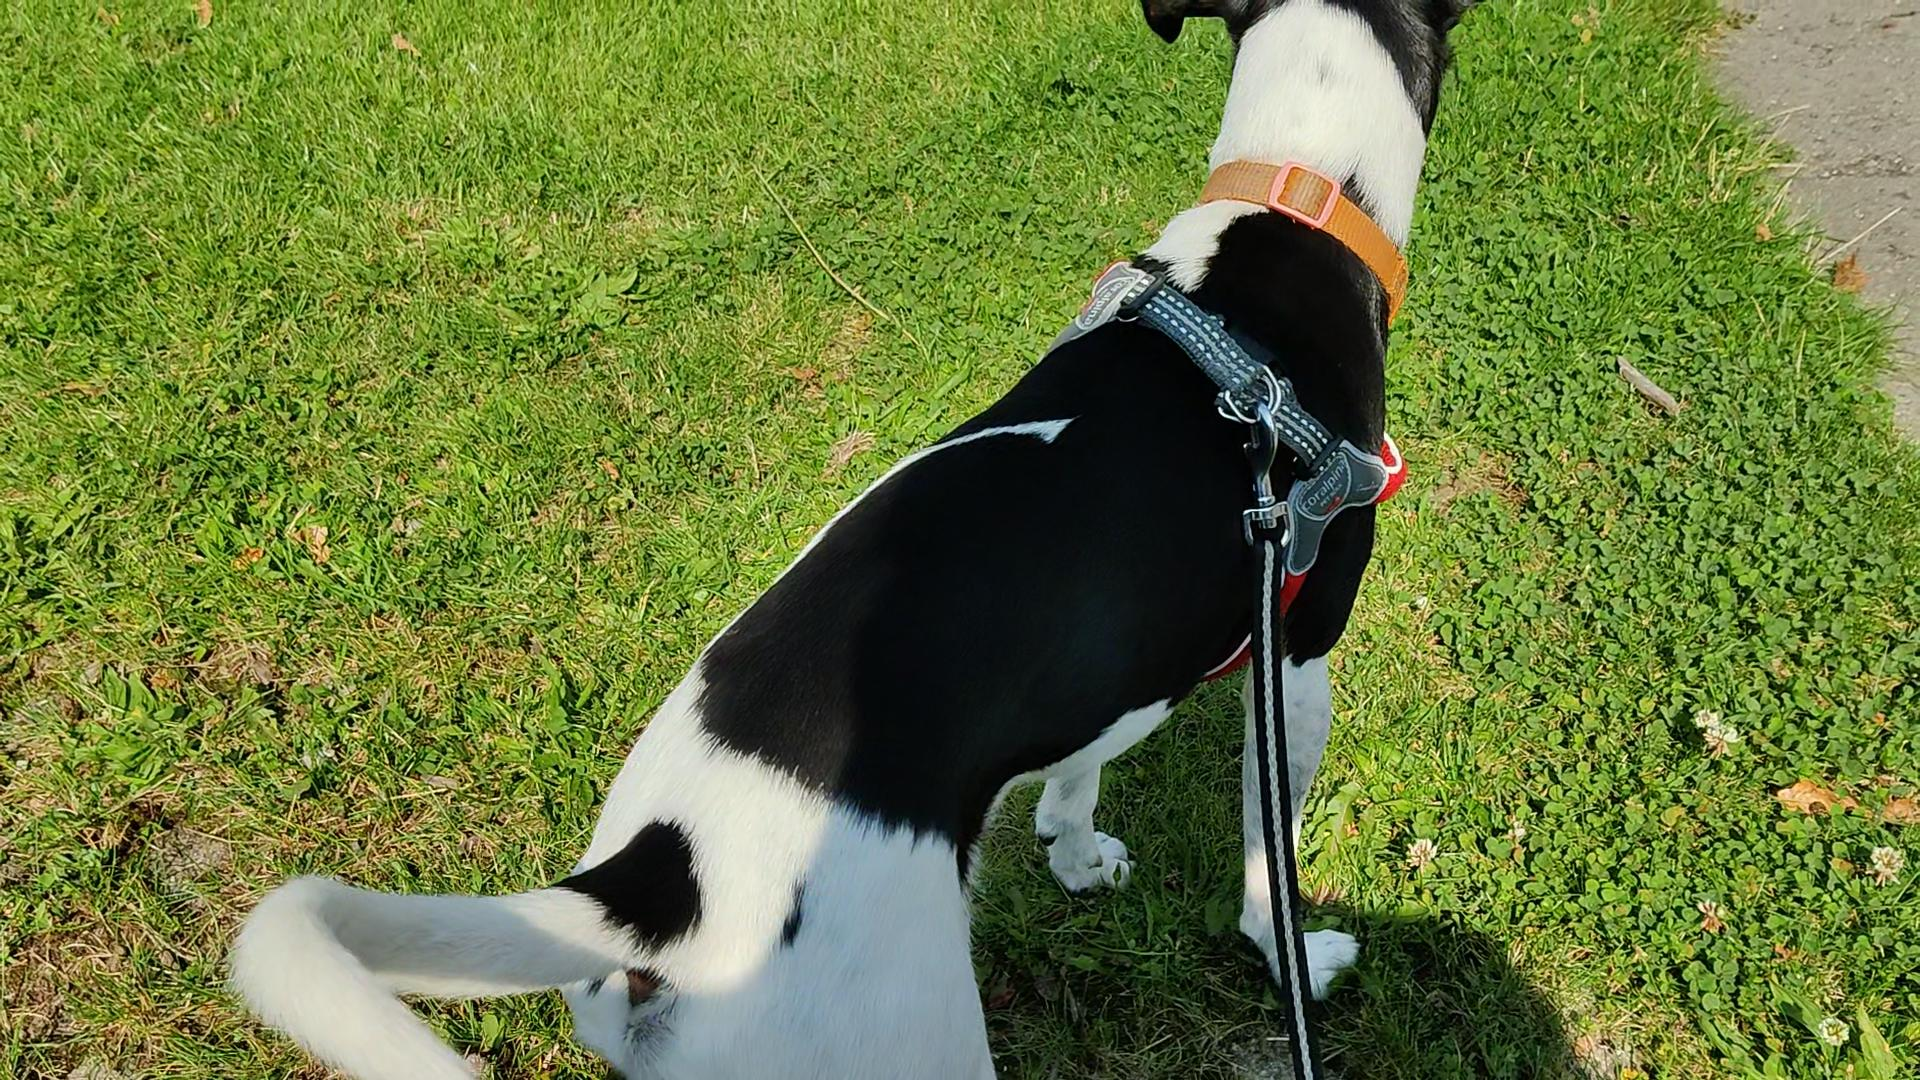Dog: (218, 0, 1490, 1079)
